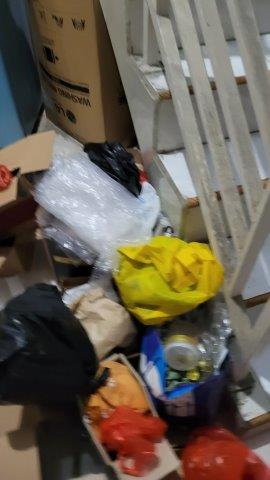plastik: (8, 299, 103, 396), (49, 166, 150, 241), (110, 407, 162, 464), (192, 431, 254, 474), (201, 311, 244, 356)
